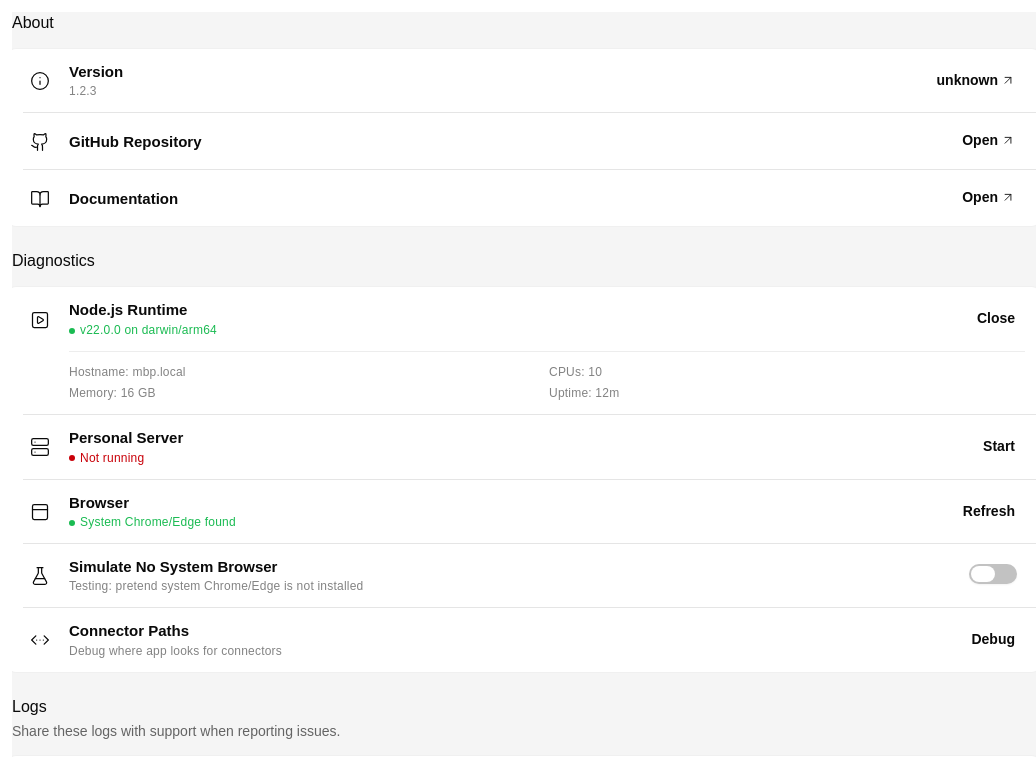
Test: SettingsAbout › closes node test success details when close is clicked
Expected: the text "Hostname: mbp.local" is shown, [69,365,186,379]
Click the button "Close".
click(996, 319)  # box [967,303,1025,335]
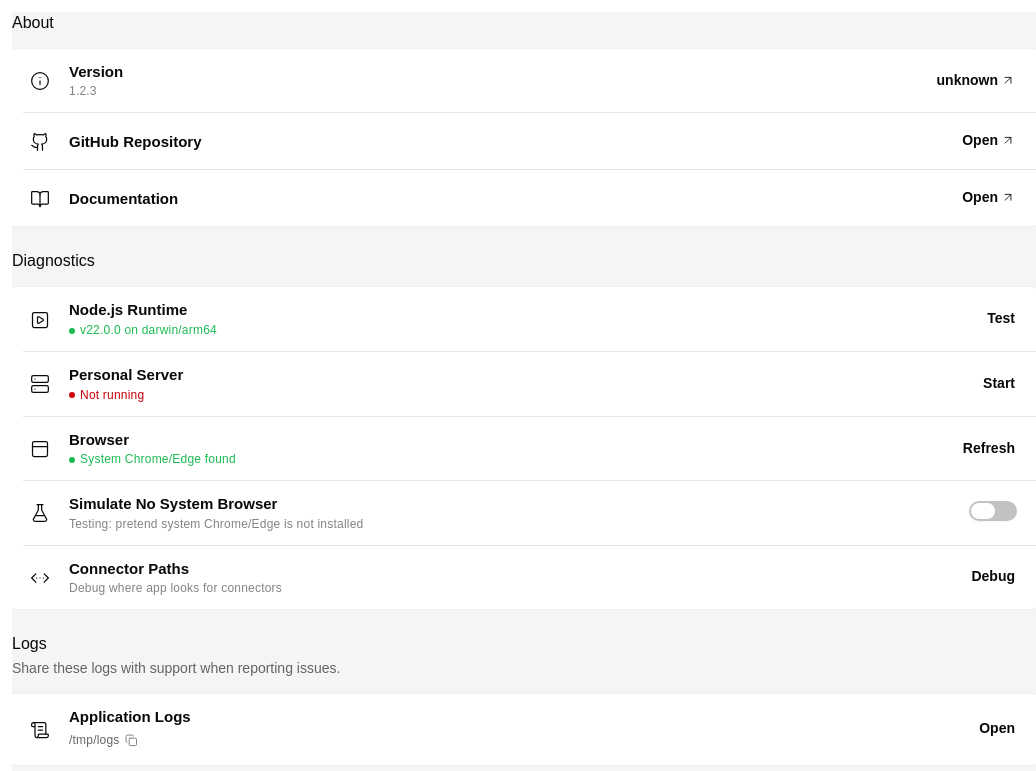
Expected: the text "Hostname:" is gone
